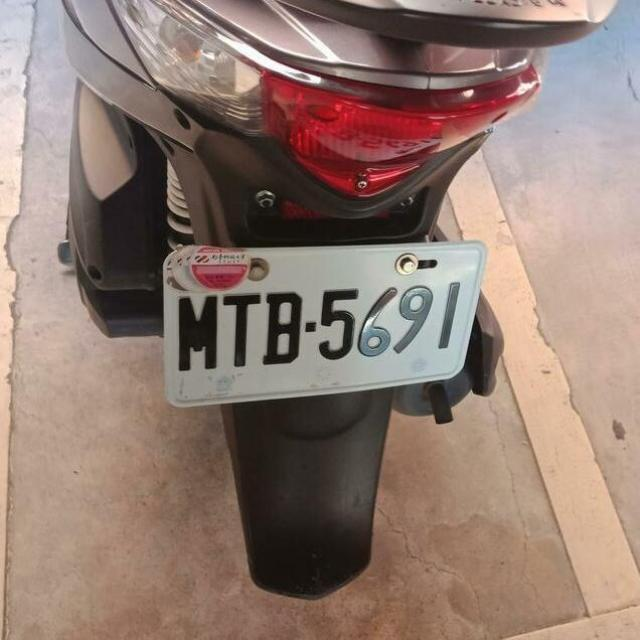W: (148, 228, 489, 404)
